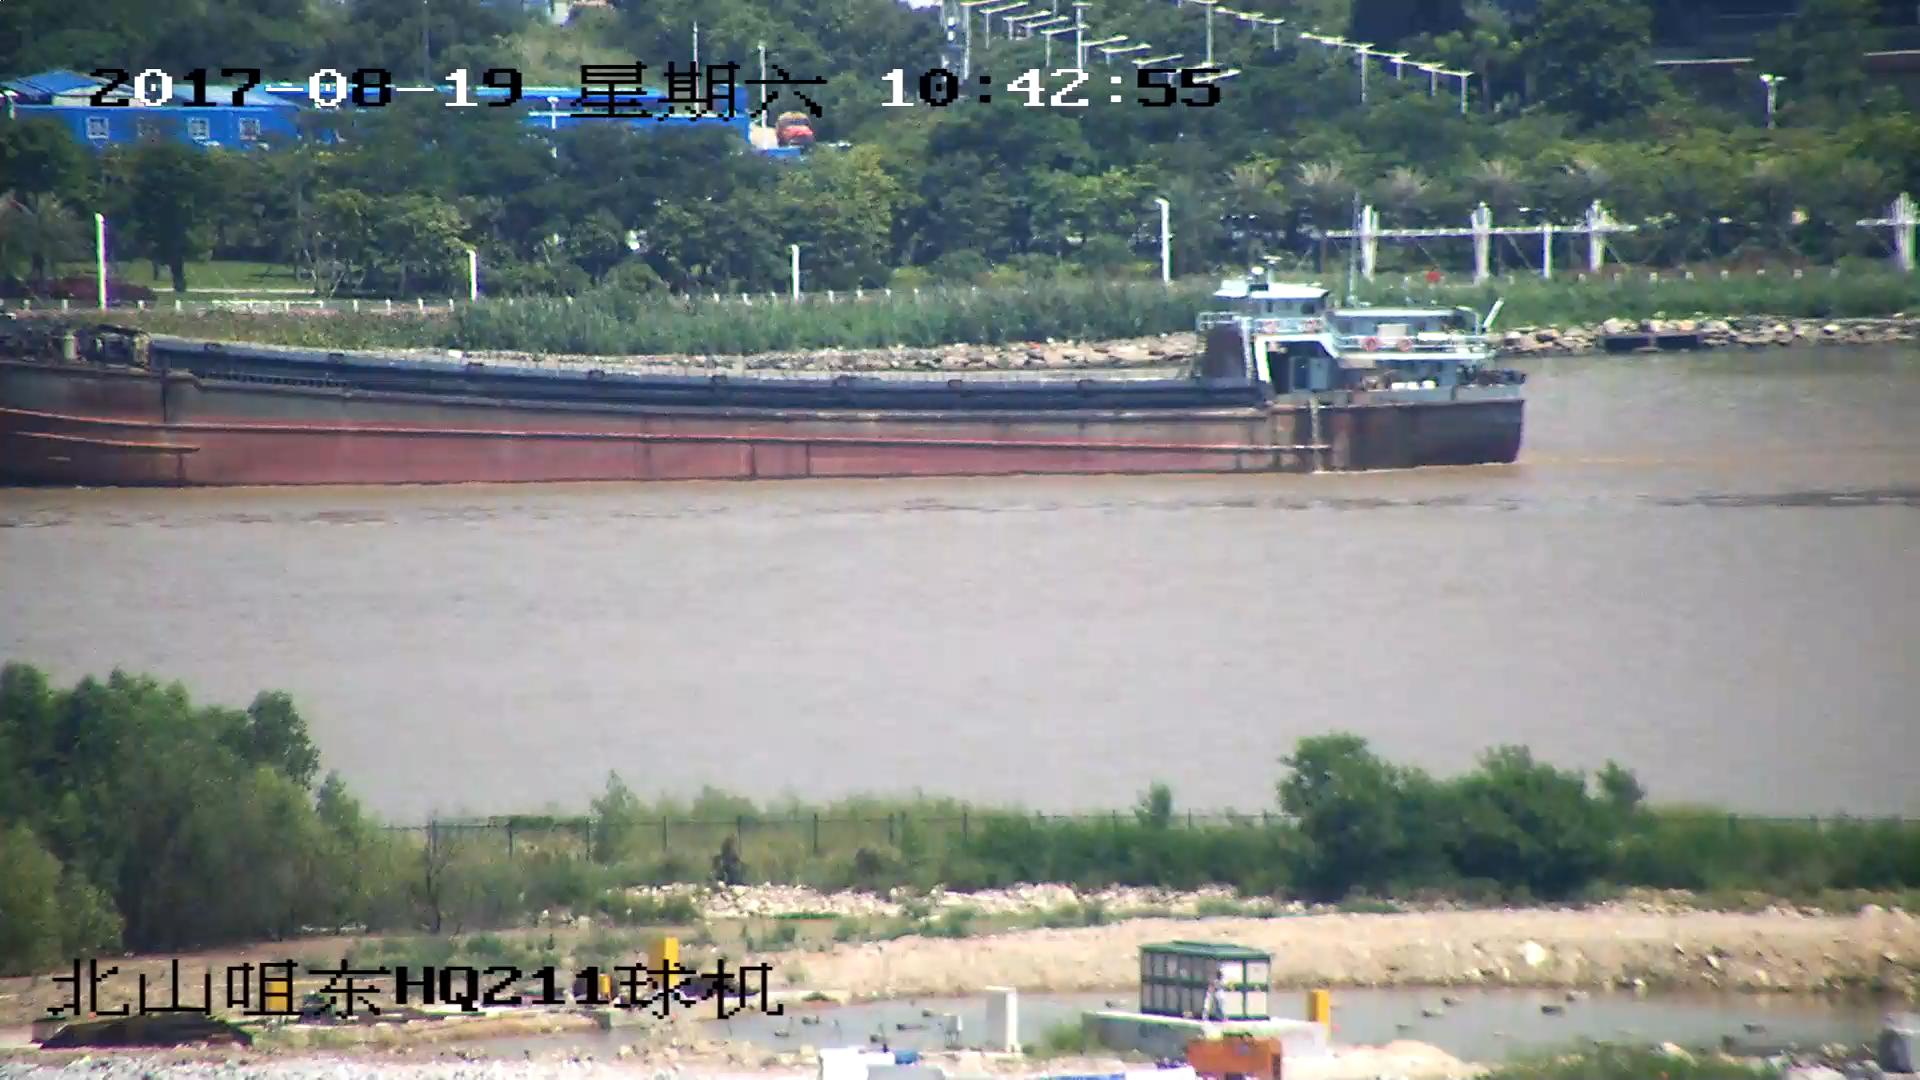bulk cargo carrier: (1, 265, 1525, 486)
